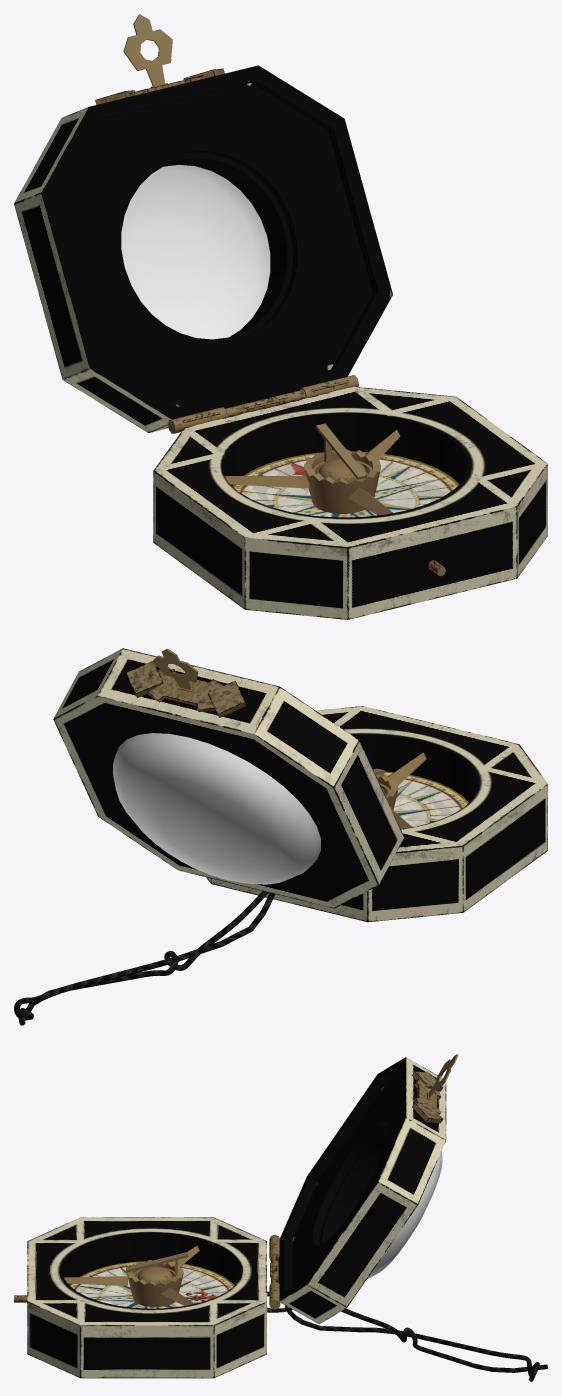
File: CompassFull.fbx
3 renders of one model, top to bottom at view 1: azimuth 30°, elevation 25°; view 2: azimuth 150°, elevation 25°; view 3: azimuth 270°, elevation 25°, orthographic. The views are drawn at different scales.
Parts seen in each view (by area): view 1: Cube.001, Cube, Cylinder, Cube.006, Cube.002, Cylinder.004, Plane, Cylinder.003, Cube.003; view 2: Cube.001, Cube, Cylinder, NurbsPath, Cube.006, Cube.004, Cube.005, Plane, Cylinder.003; view 3: Cube, Cube.001, Cube.006, NurbsPath, Cube.002, Cylinder, Cylinder.003, Cylinder.004, Cube.004, Cube.005, Cube.003.
Part boxes in pixels (x1=…): Cube.001: x1=14, y1=65, x2=392, y2=432; Cube: x1=153, y1=386, x2=547, y2=619; Cylinder: x1=121, y1=164, x2=270, y2=339; Cube.006: x1=232, y1=451, x2=458, y2=517; Cube.002: x1=304, y1=449, x2=381, y2=513; Cylinder.004: x1=168, y1=375, x2=358, y2=433; Plane: x1=123, y1=14, x2=172, y2=87; Cylinder.003: x1=225, y1=429, x2=400, y2=515; Cube.003: x1=316, y1=423, x2=367, y2=479; Cube.001: x1=53, y1=648, x2=404, y2=908; Cube: x1=206, y1=706, x2=547, y2=922; Cylinder: x1=113, y1=733, x2=320, y2=884; NurbsPath: x1=14, y1=891, x2=274, y2=1025; Cube.006: x1=379, y1=771, x2=468, y2=827; Cube.004: x1=126, y1=661, x2=246, y2=717; Cube.005: x1=146, y1=669, x2=223, y2=711; Plane: x1=152, y1=648, x2=198, y2=692; Cylinder.003: x1=388, y1=752, x2=426, y2=828; Cube: x1=27, y1=1217, x2=266, y2=1378; Cube.001: x1=278, y1=1057, x2=446, y2=1324; Cube.006: x1=69, y1=1261, x2=234, y2=1308; NurbsPath: x1=285, y1=1305, x2=547, y2=1381; Cube.002: x1=127, y1=1259, x2=183, y2=1307; Cylinder: x1=367, y1=1151, x2=442, y2=1279; Cylinder.003: x1=64, y1=1245, x2=199, y2=1305; Cylinder.004: x1=269, y1=1234, x2=280, y2=1309; Cube.004: x1=412, y1=1071, x2=443, y2=1123; Cube.005: x1=414, y1=1079, x2=441, y2=1114; Cube.003: x1=126, y1=1252, x2=187, y2=1276.
Size of the model in its own units: 214 by 267 by 446.
16 materials, 15 textured.
